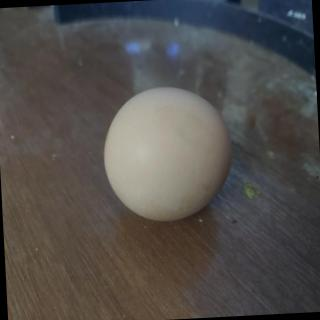Telur: (99, 78, 238, 229)
